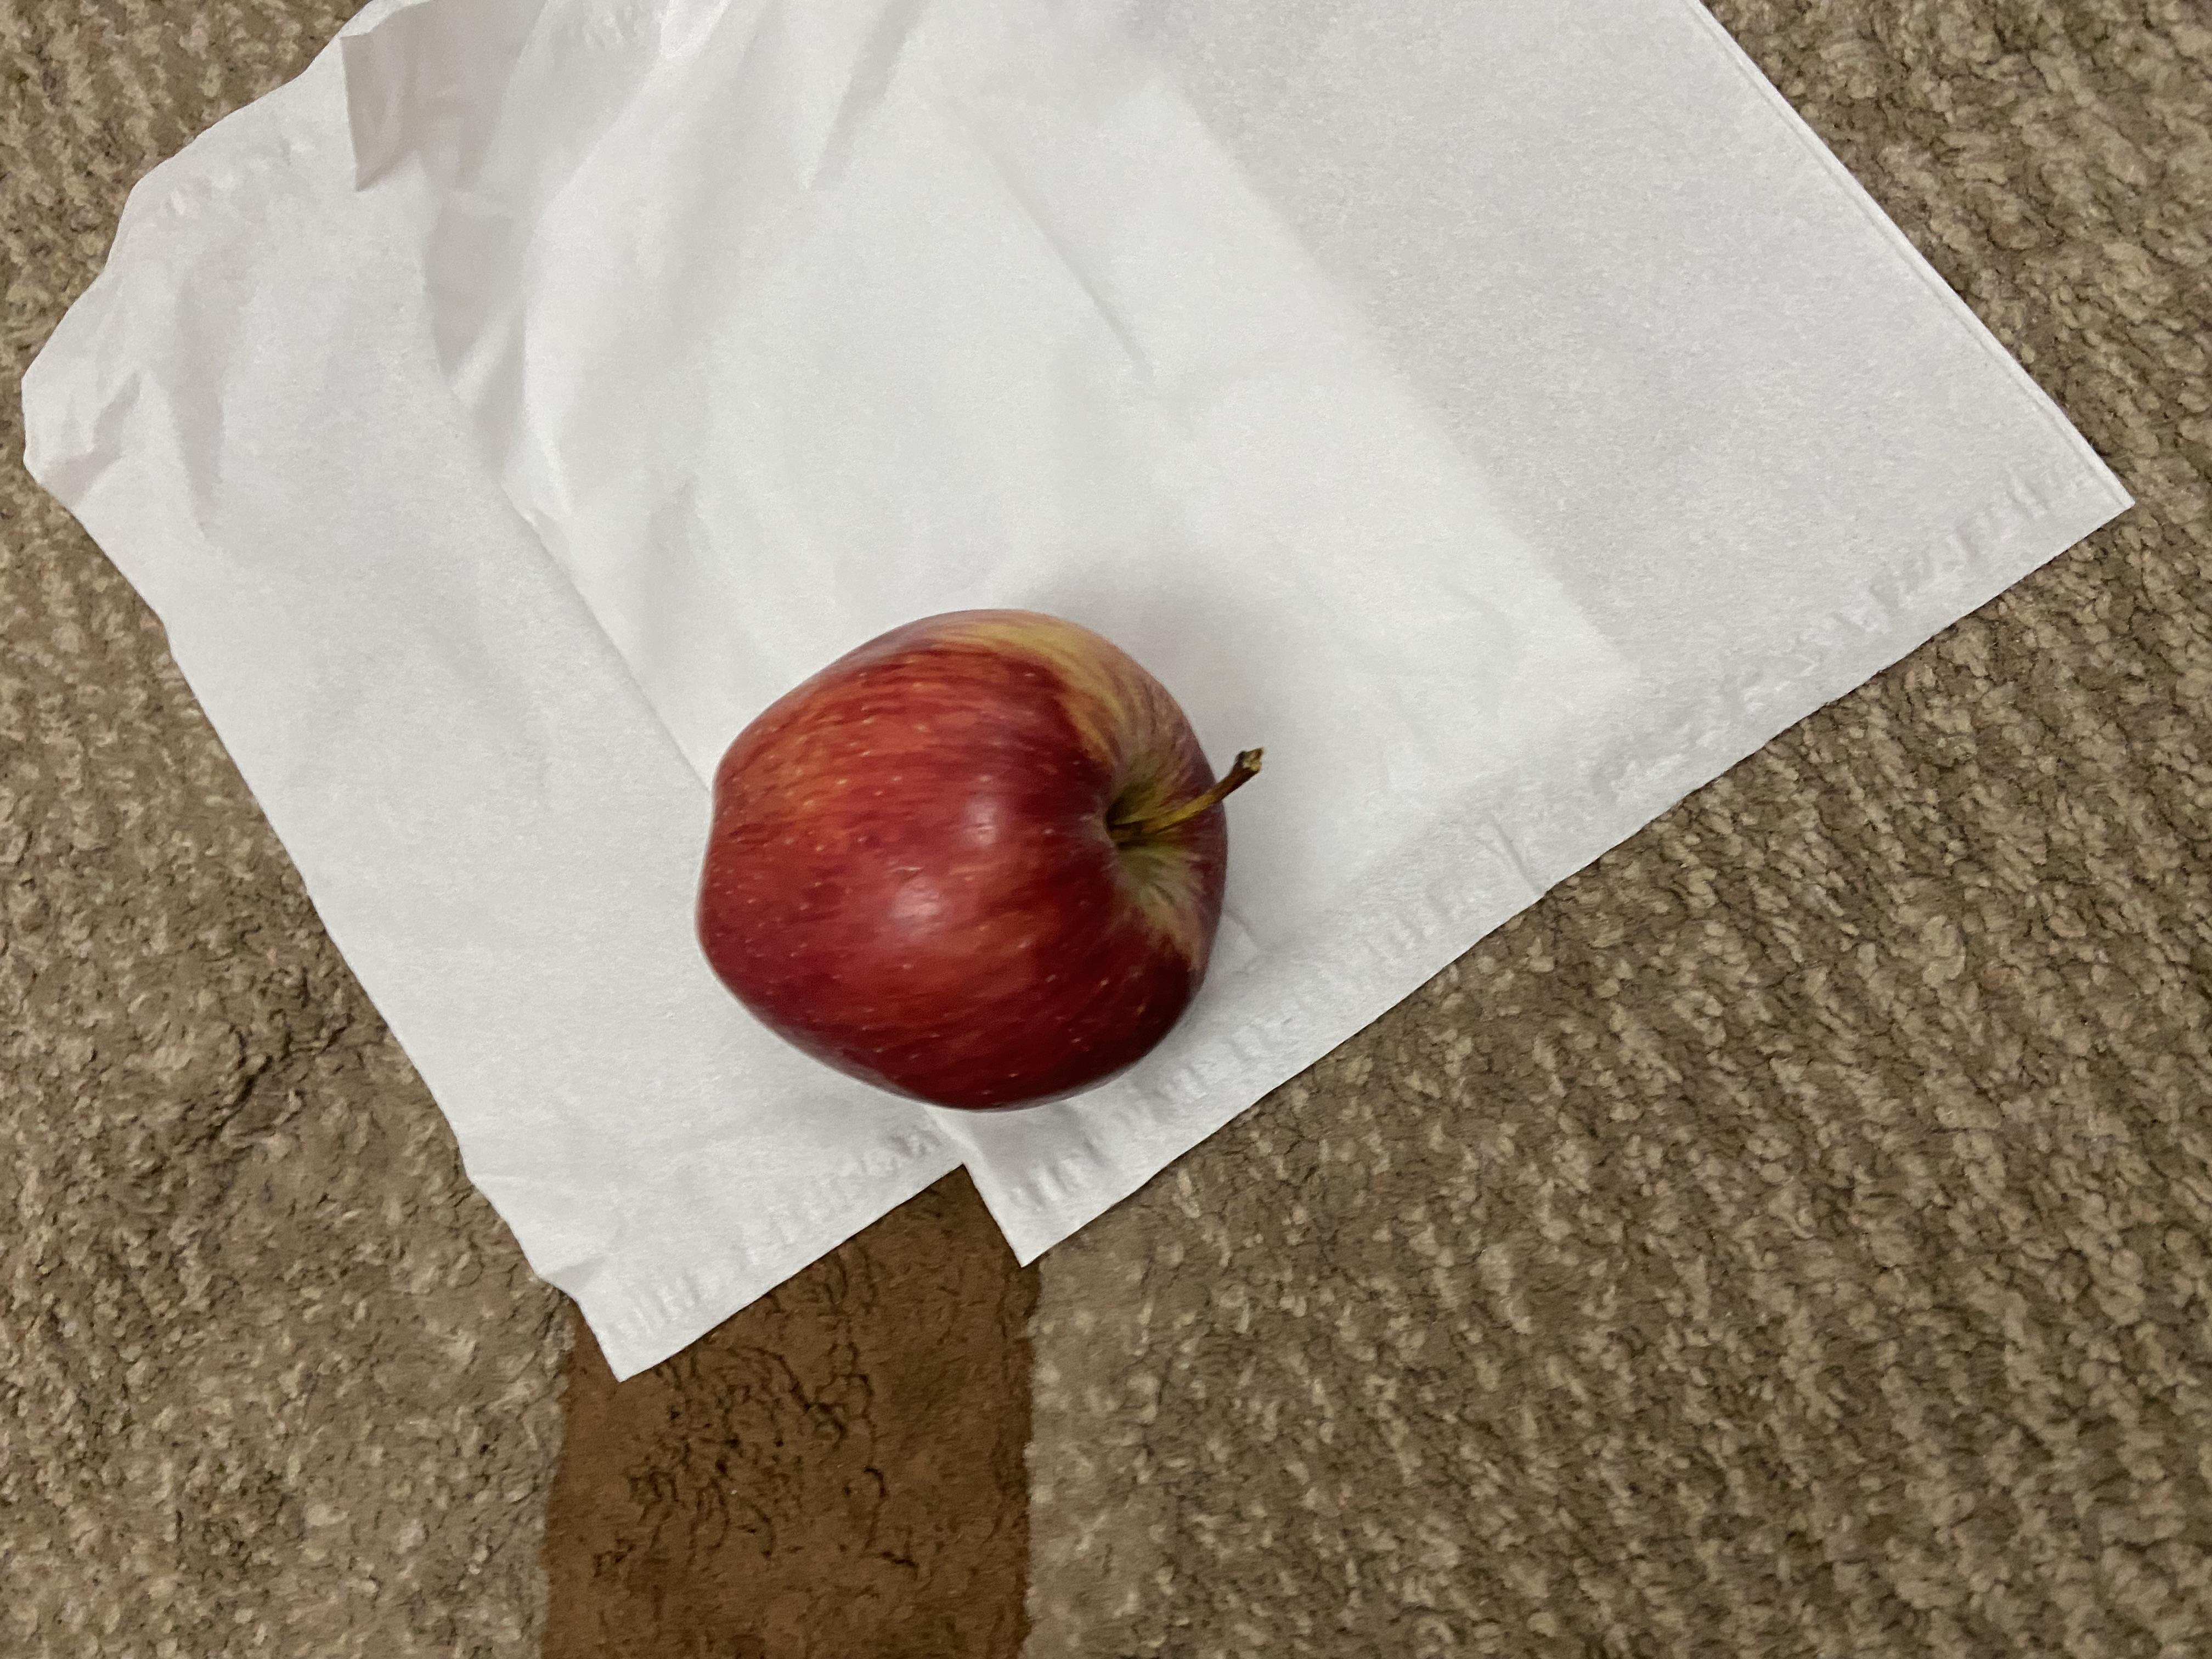Apple: (726, 502, 1413, 955)
